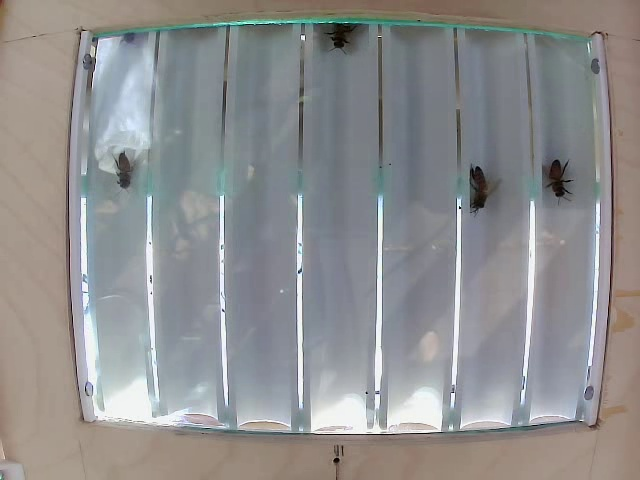bee: (319, 14, 371, 57), (456, 165, 497, 214), (101, 155, 144, 194), (539, 160, 563, 195)
